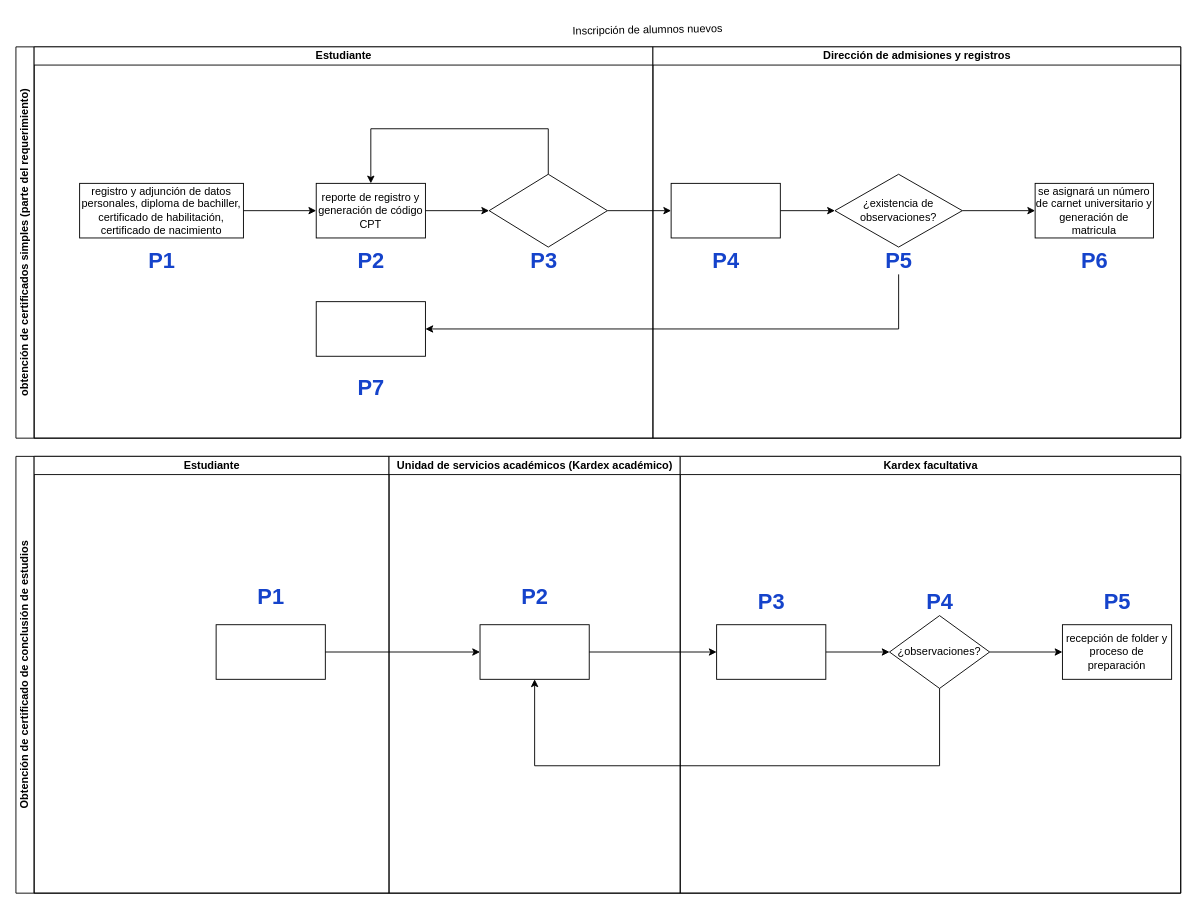
The diagram is 1197 pixels wide and 909 high, and some of its shapes have lost their labels. Each missing label, with the centre of its shape:
elaboración de carta de solicitud: the point at 270,651
evaluación y centralización de información del estudiante: the point at 725,210
lista de observaciones: the point at 534,651
notifica la causa de la negativa de matriculación: the point at 370,328
recepción y verificación del cumplimiento de requisitos: the point at 771,651
verificación de pago: the point at 547,210
